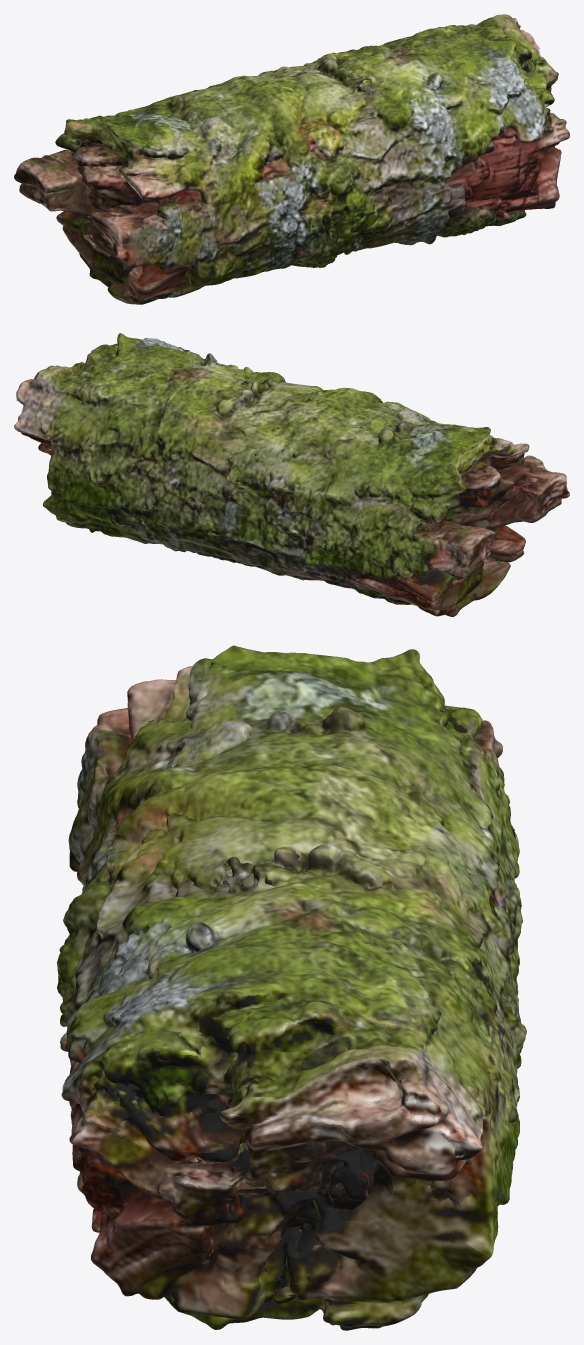
The model's file is mossy-fallen-log-01.glb.
The picture shows the model from 3 angles, top to bottom: view 1: azimuth 30°, elevation 25°; view 2: azimuth 150°, elevation 25°; view 3: azimuth 270°, elevation 25°; orthographic projection. The views are drawn at different scales.
Visible parts, largest first — view 1: geometry_0; view 2: geometry_0; view 3: geometry_0.
Boxes of the visible parts, x1,y1,x2,y2 form: geometry_0: (14, 14, 569, 304); geometry_0: (14, 333, 569, 616); geometry_0: (57, 645, 526, 1330).
Bounding box in the file's own units: 0.85 × 0.2936 × 0.3657.
1 material, 1 textured.
